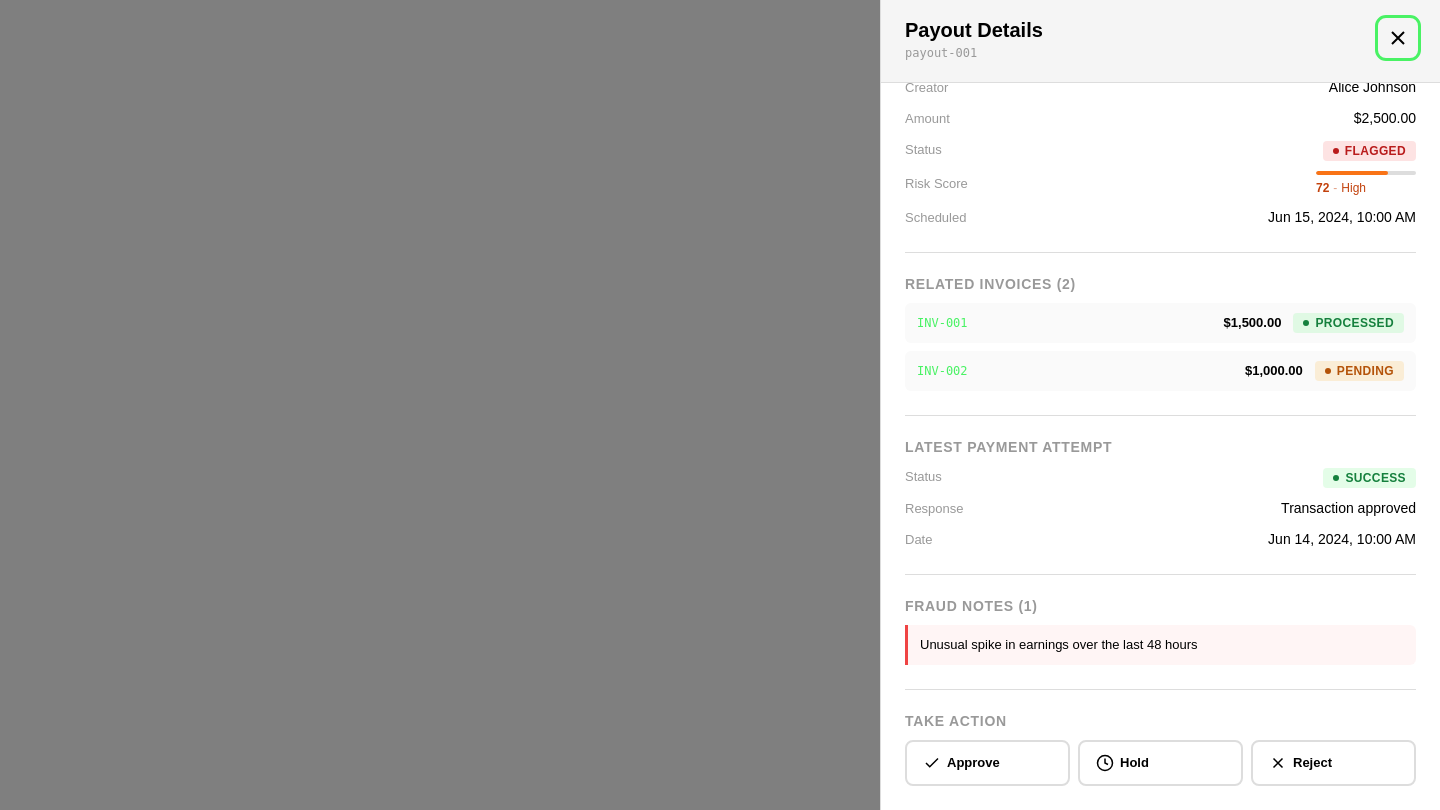
Test: PayoutDetailPanel › decision buttons › shows reason textarea when reject is selected
(page scrolled)
Click the button "Reject" at {"x": 1334, "y": 762}, box [1251,740,1416,786]
(page scrolled)
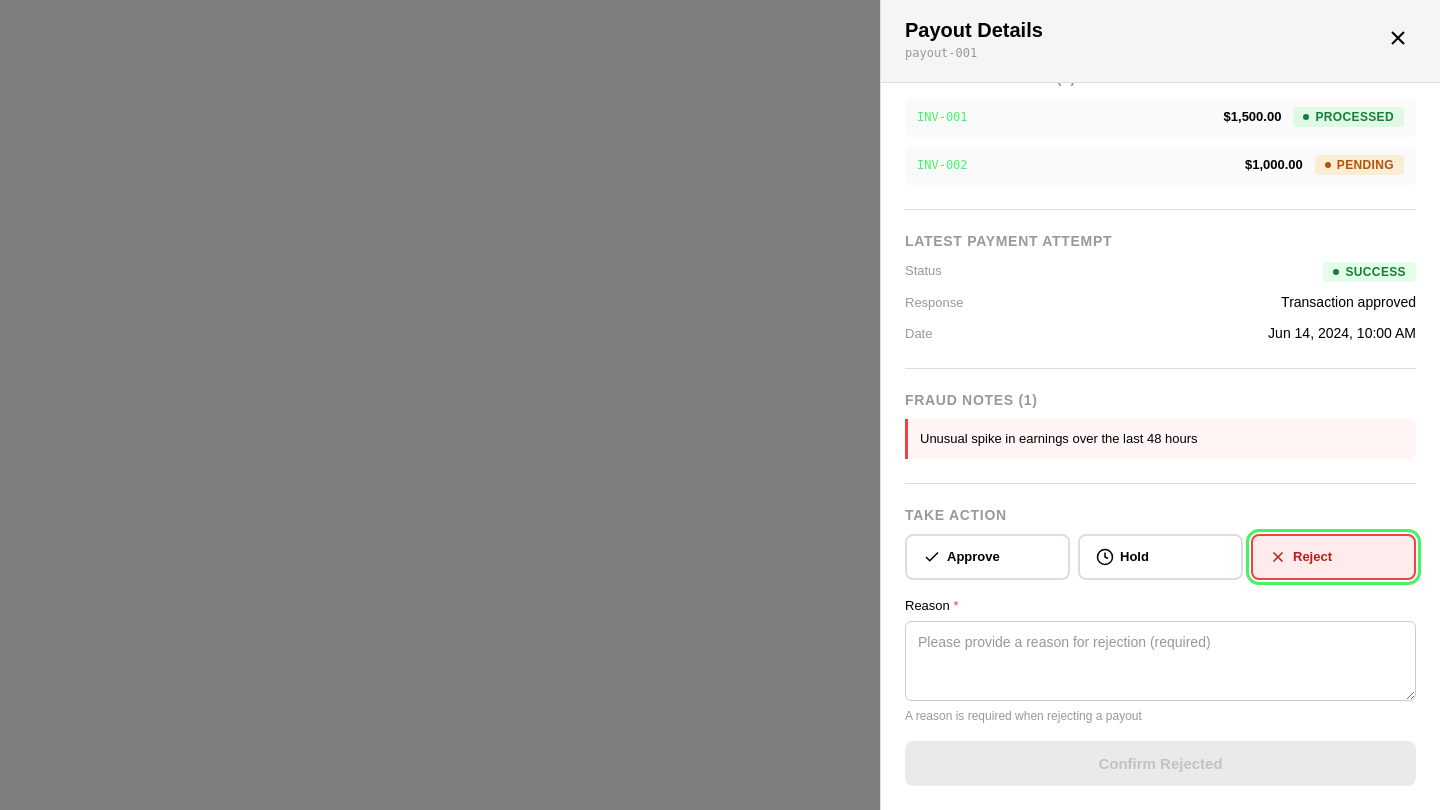
Check: the text box labelled "Reason *" is shown, box [905,621,1416,701]
